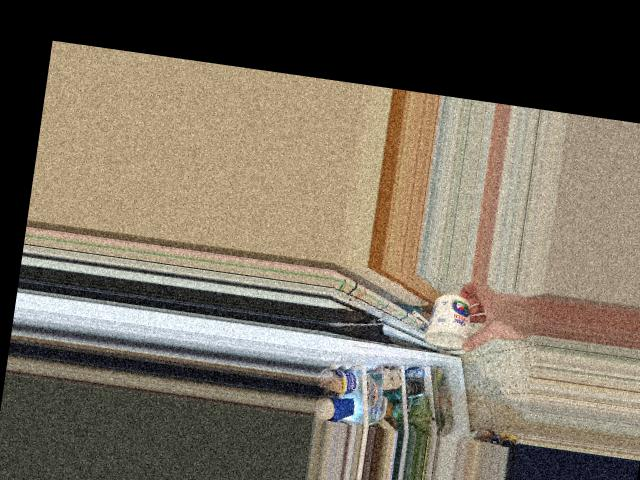cotage: (422, 287, 474, 348)
